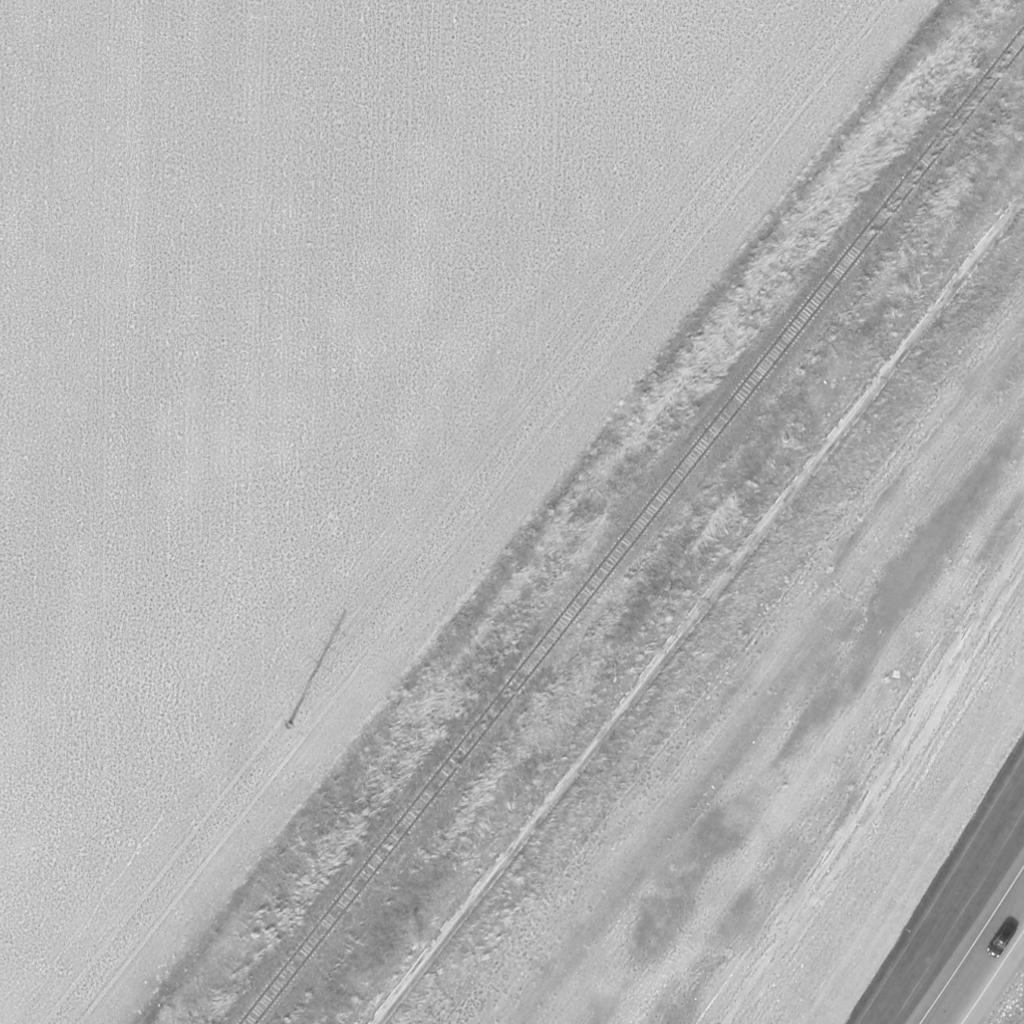vehicle: (985, 922, 1017, 960)
